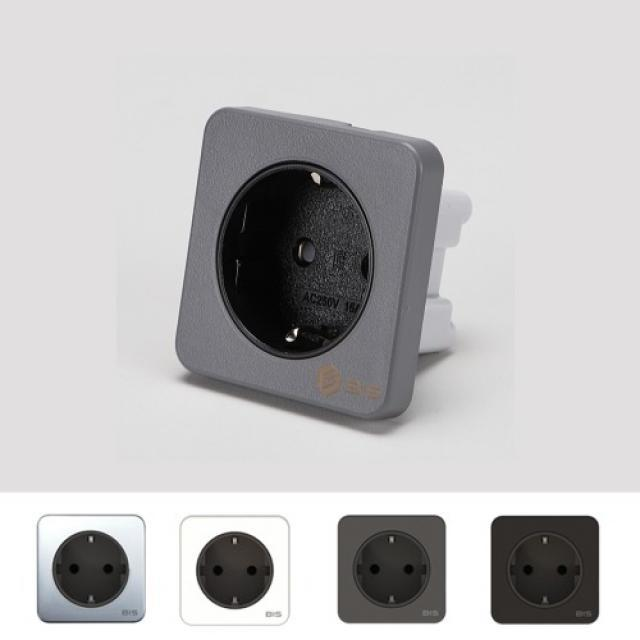typeb: (124, 66, 477, 442), (476, 511, 612, 632), (322, 502, 453, 626), (23, 508, 155, 628), (172, 510, 304, 630)
